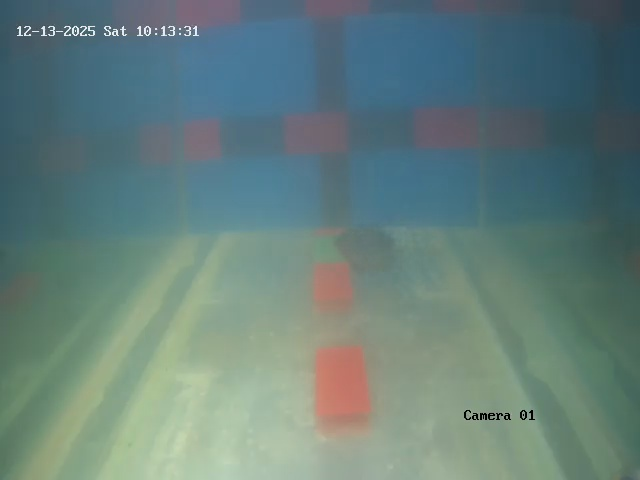fish: (330, 225, 412, 278)
